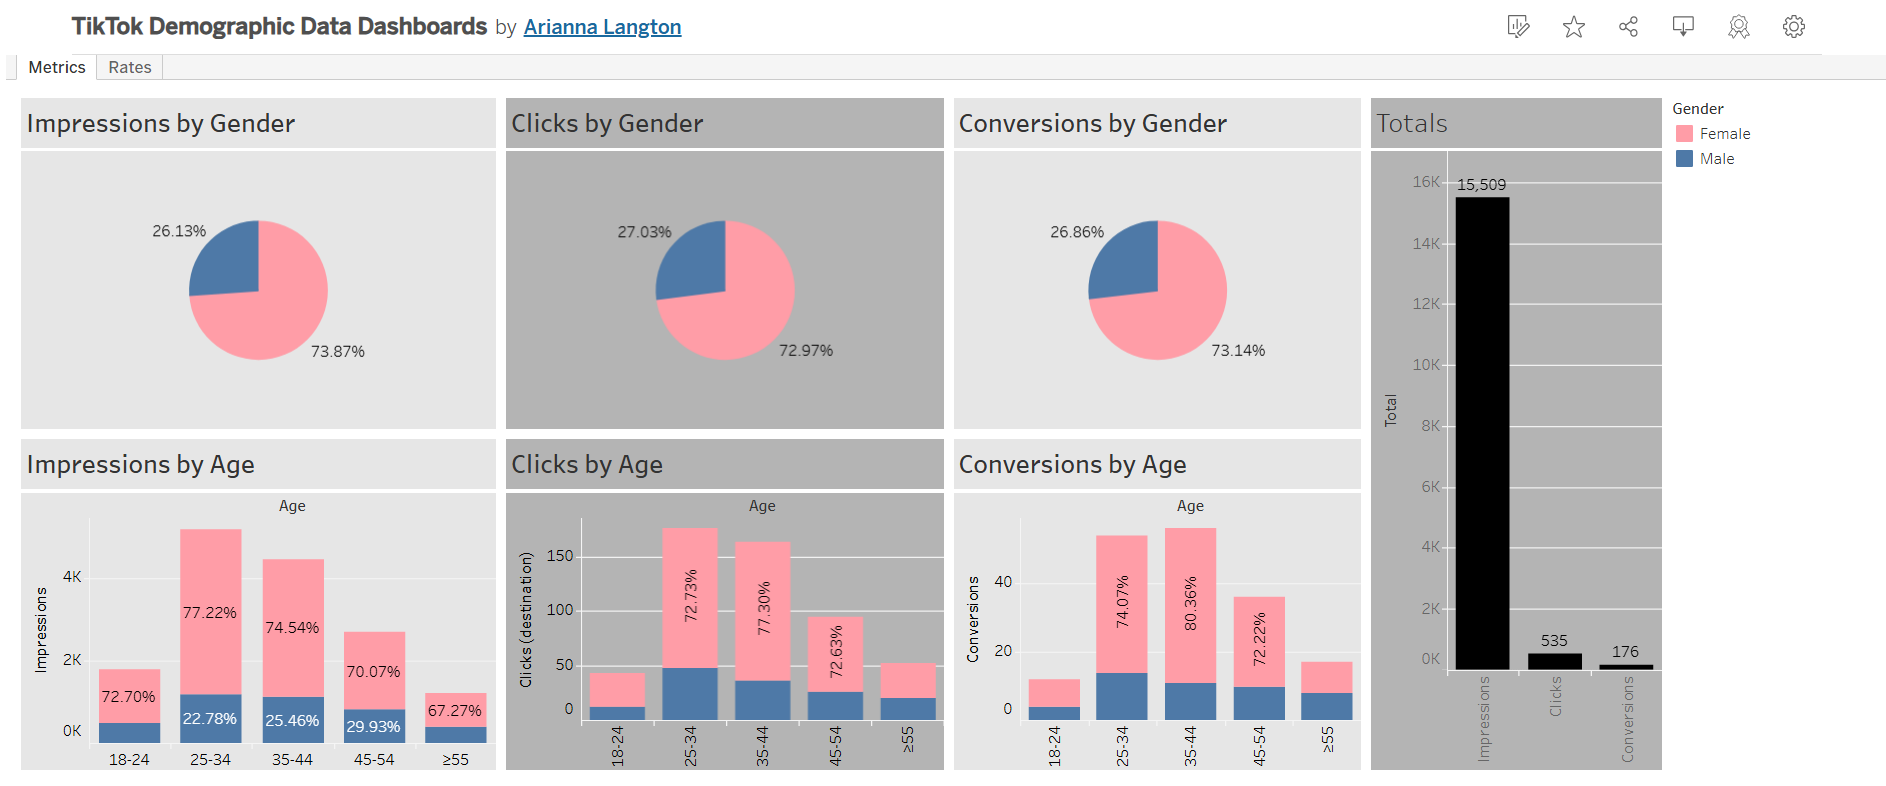

Layout of this report page (visuals, bound fields, positions):
{"tool":"tableau","page":{"name":"Dashboard 2","canvas":[1000,1000],"units":"permille","ordinal":0},"visuals":[{"type":"image","param":"Image/league_logo3.jpg","box":[5.2,8.3,230.2,219.8]},{"type":"text","box":[235.4,8.3,758.2,100]},{"type":"text","box":[235.4,108.4,758.2,42.1]},{"type":"image","param":"Image/top.png","box":[236,151.5,71,75.6]},{"type":"text","box":[307,151.5,80.5,75.6]},{"type":"image","param":"Image/jungle.png","box":[388.8,151.5,69.7,75.6]},{"type":"text","box":[458.5,151.5,61.3,75.6]},{"type":"image","param":"Image/mid.png","box":[531.9,151.5,78.1,75.6]},{"type":"text","box":[609.9,151.5,76.6,75.6]},{"type":"image","param":"Image/supp.png","box":[687.9,151.5,81.9,75.6]},{"type":"text","box":[769.8,151.5,69,75.6]},{"type":"image","param":"Image/bottom.png","box":[840.1,151.5,43.8,75.6]},{"type":"text","box":[883.9,151.5,109,75.6]},{"type":"worksheet","title":"Sheet 1","mark":"Automatic","rows":["Name"],"cols":["Pick %","Pick %"],"box":[5.2,228.2,352.6,381.8]},{"type":"worksheet","title":"Sheet 2","mark":"Automatic","rows":["Name","Role"],"cols":["Win %","Win %"],"box":[357.8,228.2,419,381.8]},{"type":"worksheet","title":"Sheet 4","mark":"Shape","rows":["Name"],"cols":["Role"],"box":[776.8,228.2,218.1,763.5]},{"type":"worksheet","title":"Sheet 3","mark":"Automatic","rows":["Name"],"cols":["Ban %","Ban %"],"box":[5.2,609.9,352.6,381.8]},{"type":"worksheet","title":"Sheet 5","mark":"Automatic","rows":["Role"],"cols":["Win %","Win %"],"box":[357.8,609.9,419,381.8]}]}

Visuals, with their boxes on the dashboard's canvas, which has no fixed pixel size, in thousandths of its width and height (x1, y1, x2, y2). These are canvas units, not pixel positions in the 1886x786 screenshot, which may show the page scaled, cropped or inside an application window:
image: crop(5, 8, 235, 228)
text: crop(235, 8, 994, 108)
text: crop(235, 108, 994, 150)
image: crop(236, 152, 307, 227)
text: crop(307, 152, 388, 227)
image: crop(389, 152, 458, 227)
text: crop(458, 152, 520, 227)
image: crop(532, 152, 610, 227)
text: crop(610, 152, 686, 227)
image: crop(688, 152, 770, 227)
text: crop(770, 152, 839, 227)
image: crop(840, 152, 884, 227)
text: crop(884, 152, 993, 227)
"Sheet 1" worksheet: crop(5, 228, 358, 610)
"Sheet 2" worksheet: crop(358, 228, 777, 610)
"Sheet 4" worksheet (Shape marks): crop(777, 228, 995, 992)
"Sheet 3" worksheet: crop(5, 610, 358, 992)
"Sheet 5" worksheet: crop(358, 610, 777, 992)
